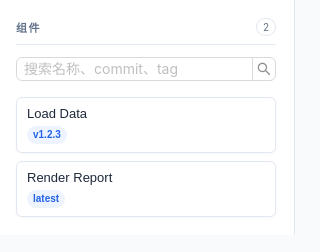
Test: ComponentPalette › filters by name, commit, or tag
Step 1. Type "abc123" into the search field with placeholder "搜索名称、commit、tag" → (126, 69), box [24,58,229,80]
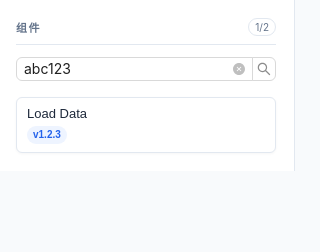
Check: the text "Load Data" is shown, box [27,106,87,121]
Check: the button "Render Report" is gone
Step 2. Replace the text in the search field with placeholder "搜索名称、commit、tag" with "latest" → (126, 69), box [24,58,229,80]
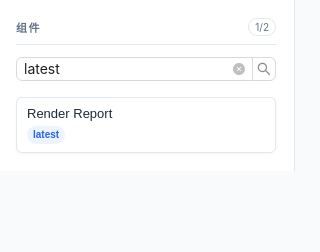
Check: the button "Load Data" is gone
Check: the text "Render Report" is shown, box [27,106,112,121]
